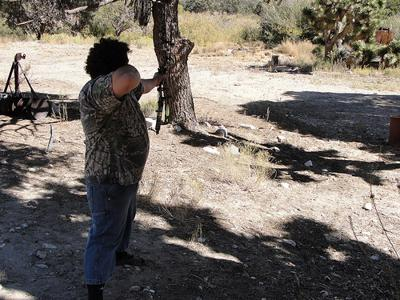person: (78, 37, 165, 300)
